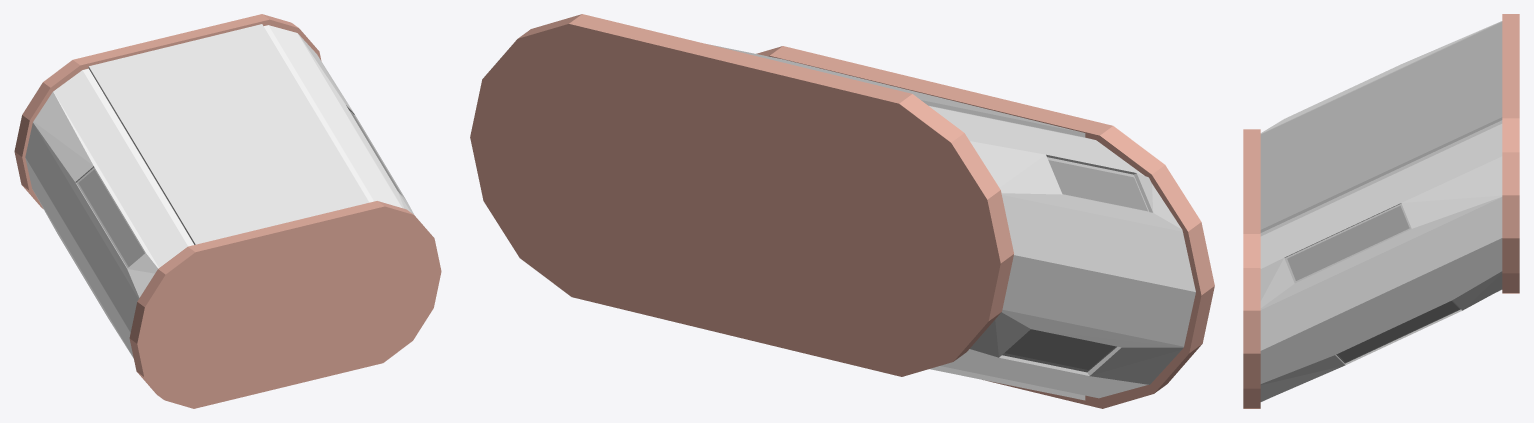
3 views of the same model, side by side, from view 1: azimuth 30°, elevation 25°; view 2: azimuth 150°, elevation 25°; view 3: azimuth 270°, elevation 25° (orthographic). The views are drawn at different scales.
Parts seen in each view (by area): view 1: Cylinder_10; view 2: Cylinder_10; view 3: Cylinder_10.
Boxes of the visible parts, left/top/right/bottom form: Cylinder_10: left=14, top=14, right=441, bottom=408; Cylinder_10: left=470, top=14, right=1214, bottom=408; Cylinder_10: left=1243, top=14, right=1519, bottom=408.
Size of the model in its own units: 601 by 490 by 420.
